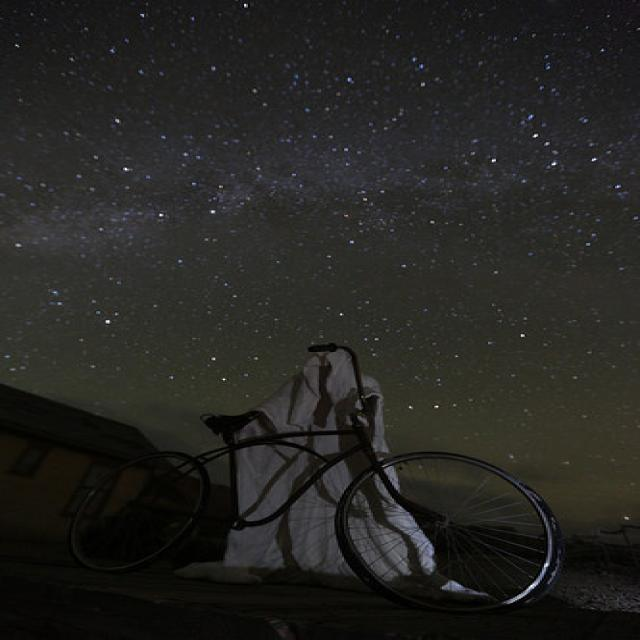Bicycle: (66, 359, 586, 626)
